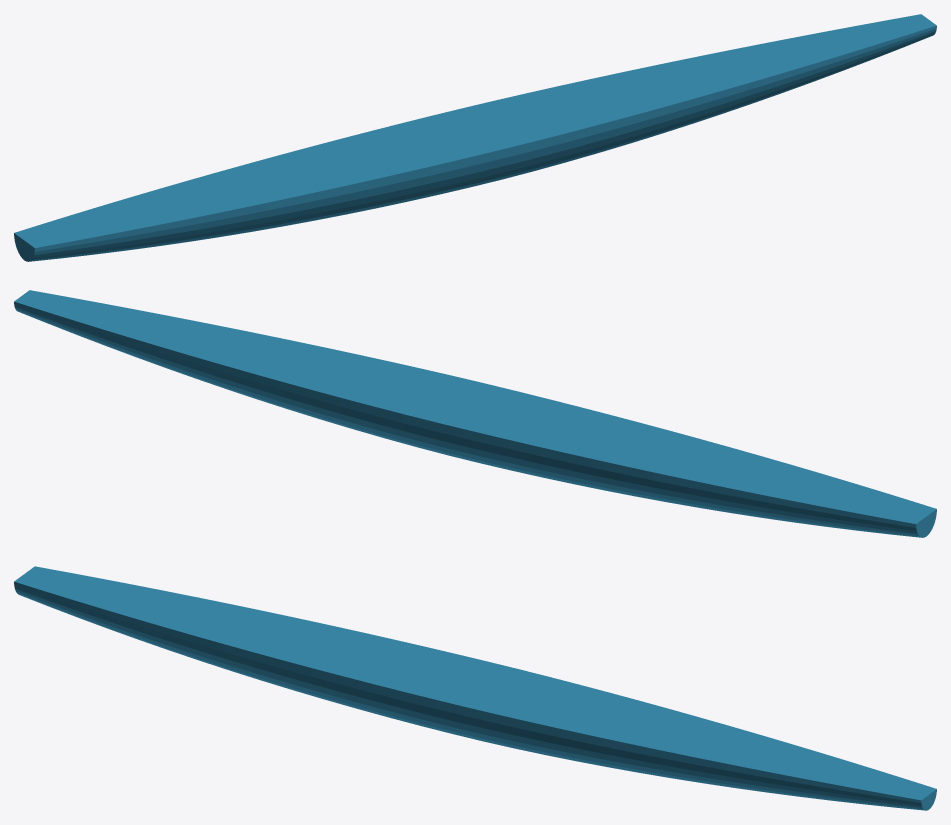
The model's file is hull_small.dae.
3 views of the same model, one above another, from view 1: azimuth 30°, elevation 25°; view 2: azimuth 150°, elevation 25°; view 3: azimuth 330°, elevation 25° (orthographic).
Parts seen in each view (by area): view 1: hull_small; view 2: hull_small; view 3: hull_small.
Boxes of the visible parts, <box> form: hull_small: <box>14,14,936,261</box>; hull_small: <box>14,290,936,537</box>; hull_small: <box>14,566,936,810</box>.
Bounding box in the file's own units: 4 × 0.3997 × 0.2098.
